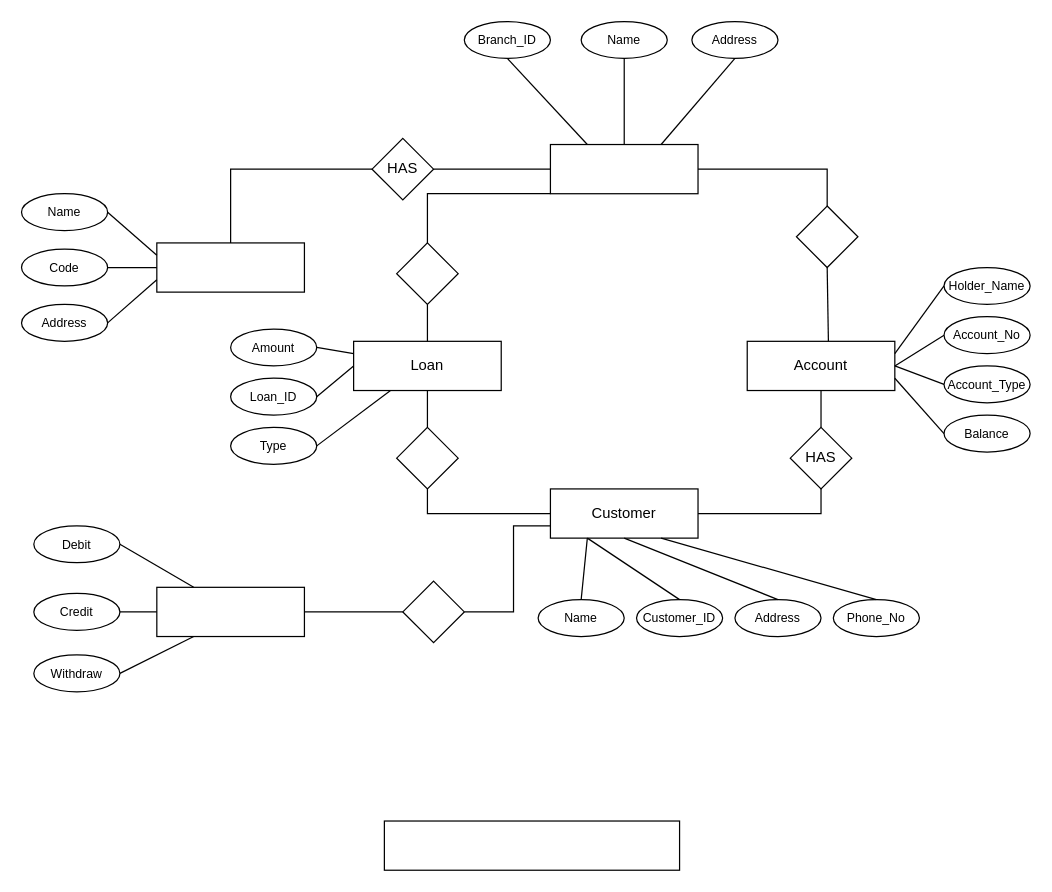
Some shapes in this 1052 by 892 pixel diagram are drawn without their labels. Here are the shapes that lost their labels. From the top down, the centre of each, then its label:
At pixel 623 168: "Branch".
At pixel 826 236: "HOLD".
At pixel 230 267: "Bank".
At pixel 426 273: "OFFERS".
At pixel 426 457: "TAKE".
At pixel 230 611: "Transaction".
At pixel 433 611: "DOES".
At pixel 531 845: "ER-Digram".
